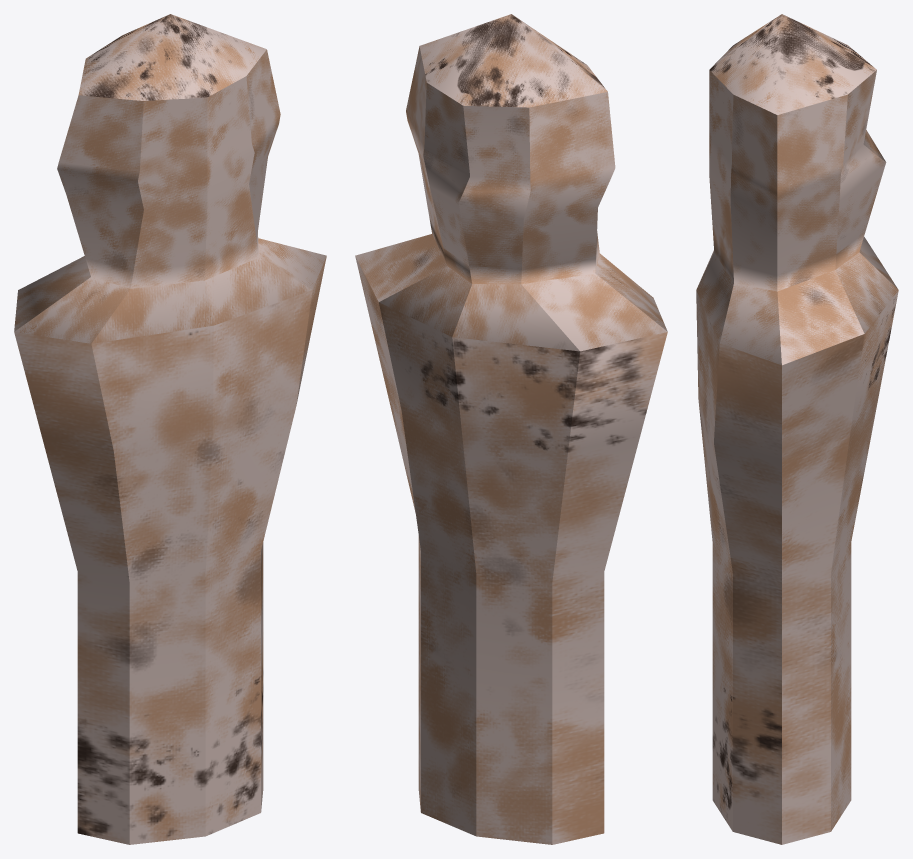
The model's file is figurine_plain.glb.
3 views of the same model, side by side, from view 1: azimuth 30°, elevation 25°; view 2: azimuth 150°, elevation 25°; view 3: azimuth 270°, elevation 25° (orthographic).
Visible parts, largest first — view 1: pCylinder2.002; view 2: pCylinder2.002; view 3: pCylinder2.002.
Part boxes in pixels (x1,y1,x2,y2): pCylinder2.002: (14, 14, 326, 844); pCylinder2.002: (355, 14, 667, 844); pCylinder2.002: (696, 14, 898, 844).
Size of the model in its own units: 0.1137 by 0.2768 by 0.0646.
1 material, 1 textured.
